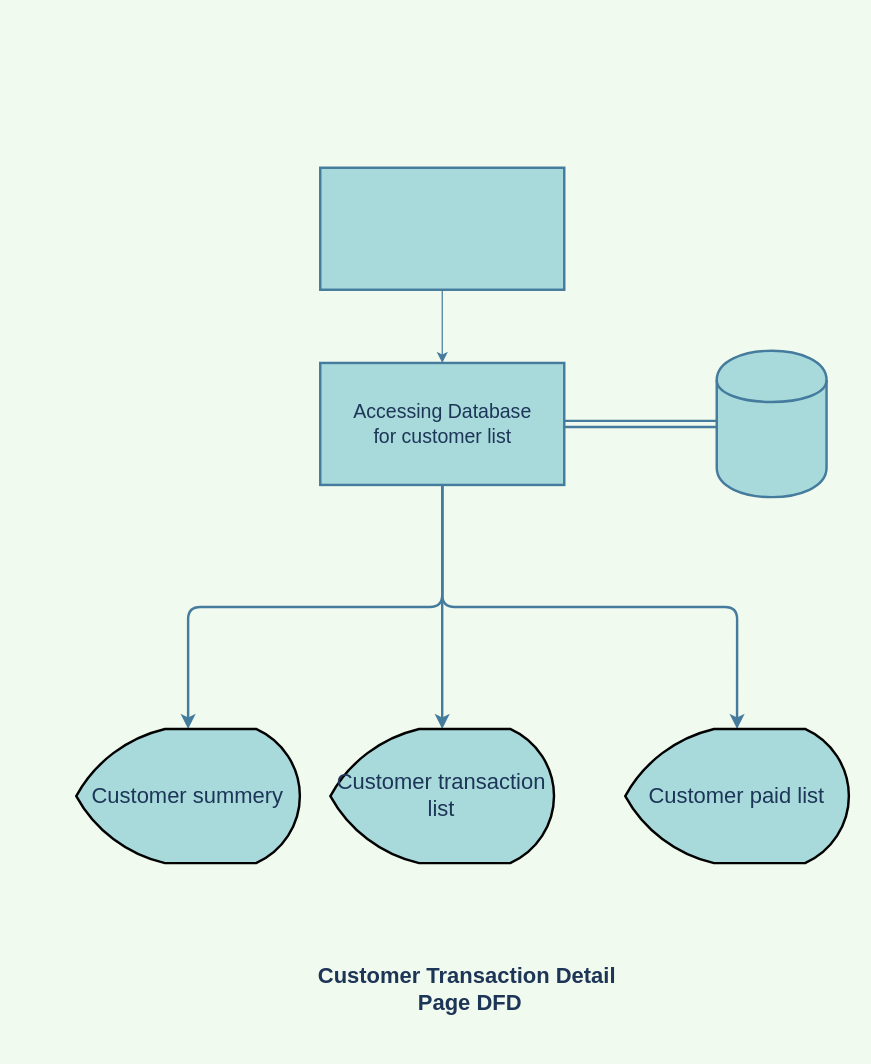
This 871x1064 diagram has some shape labels left out. Here are the shapes that lost their labels. From the top down, the centre of each, then its label:
At [441,228]: "From other page with customer mobile no".
At [771,423]: "Database".
